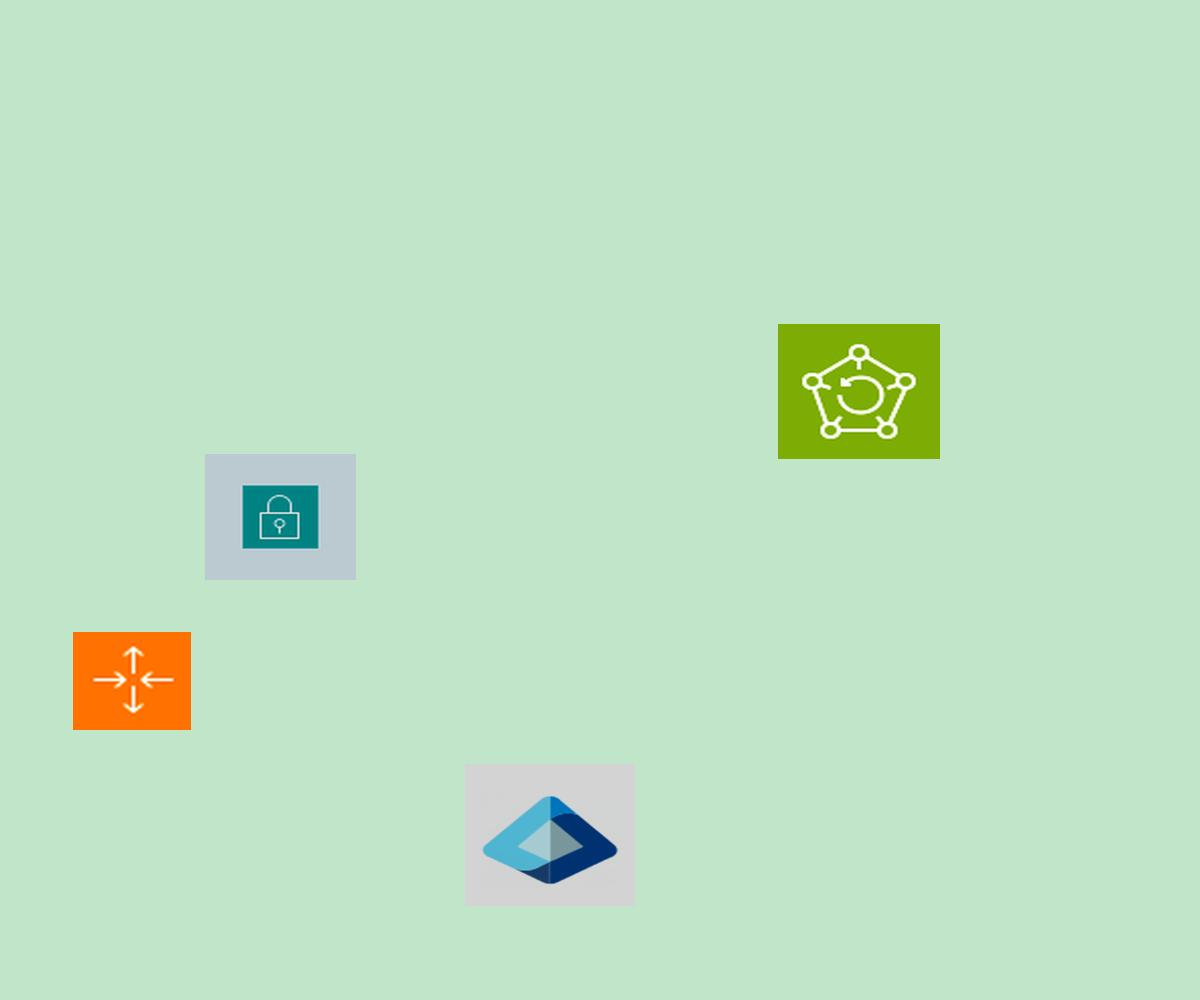AWS-Backup: (778, 324, 940, 459)
AWS-Private-subnet: (205, 454, 356, 580)
AWS-Scaling-group: (73, 632, 191, 730)
Azure_microsoft_entra: (465, 764, 635, 906)
